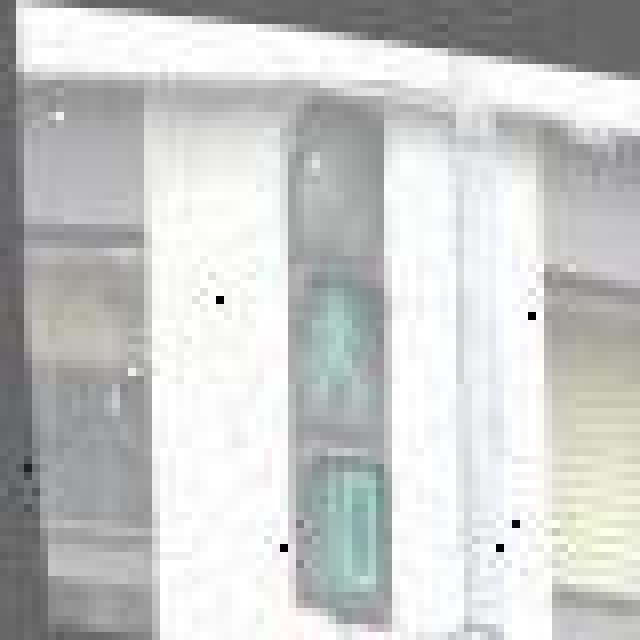greenlight: (285, 116, 396, 448)
